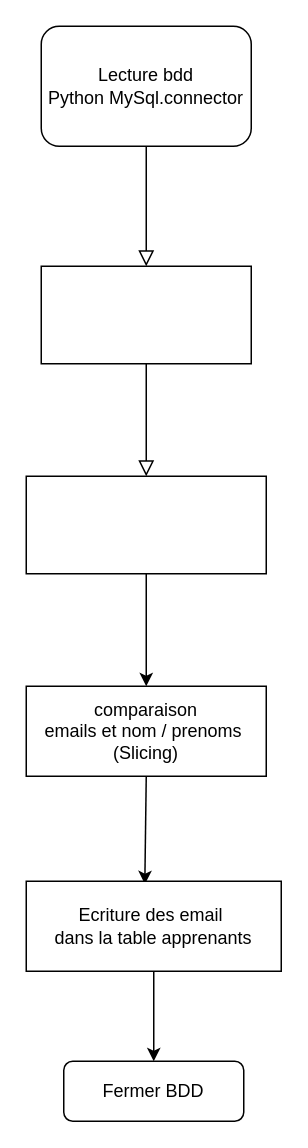
The diagram is 308 pixels wide and 1148 high, and some of its shapes have lost their labels. The centre of each missing label's shape, as x and y in pixels:
Création Colone mail: (145,314)
lecture du fichier emails.txt: (145,524)
